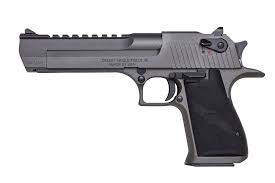gun: (17, 26, 269, 167)
